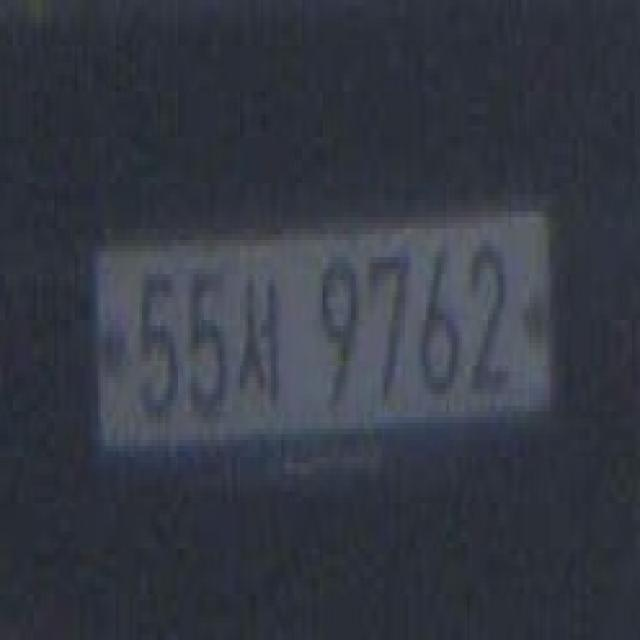2: (463, 234, 516, 400)
5: (136, 260, 180, 422), (187, 261, 227, 423)
6: (422, 241, 459, 396)
7: (365, 247, 414, 401)
9: (317, 246, 360, 415)
license_plate: (83, 176, 564, 498)
seo: (234, 260, 283, 418)
